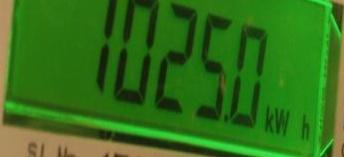.: (262, 102, 313, 141)
0: (222, 112, 230, 124)
1: (113, 0, 157, 102), (229, 24, 268, 128)
2: (94, 0, 117, 94)
3: (154, 0, 199, 114)
6: (194, 11, 232, 122)
